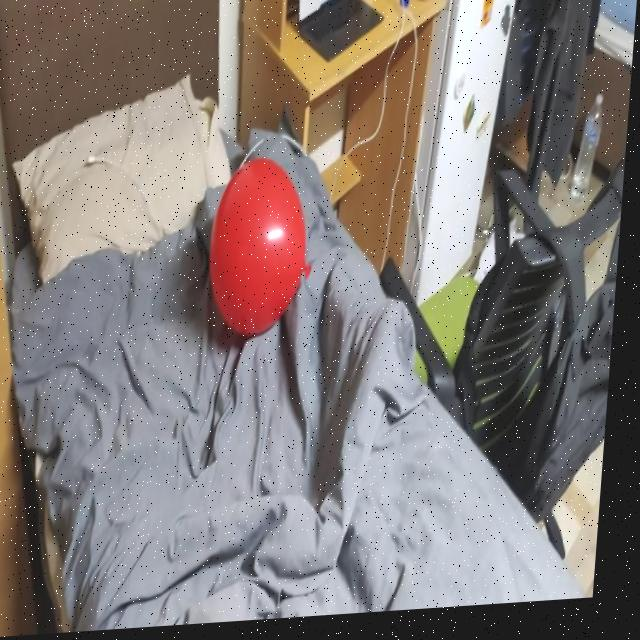balloon: (198, 142, 327, 349)
